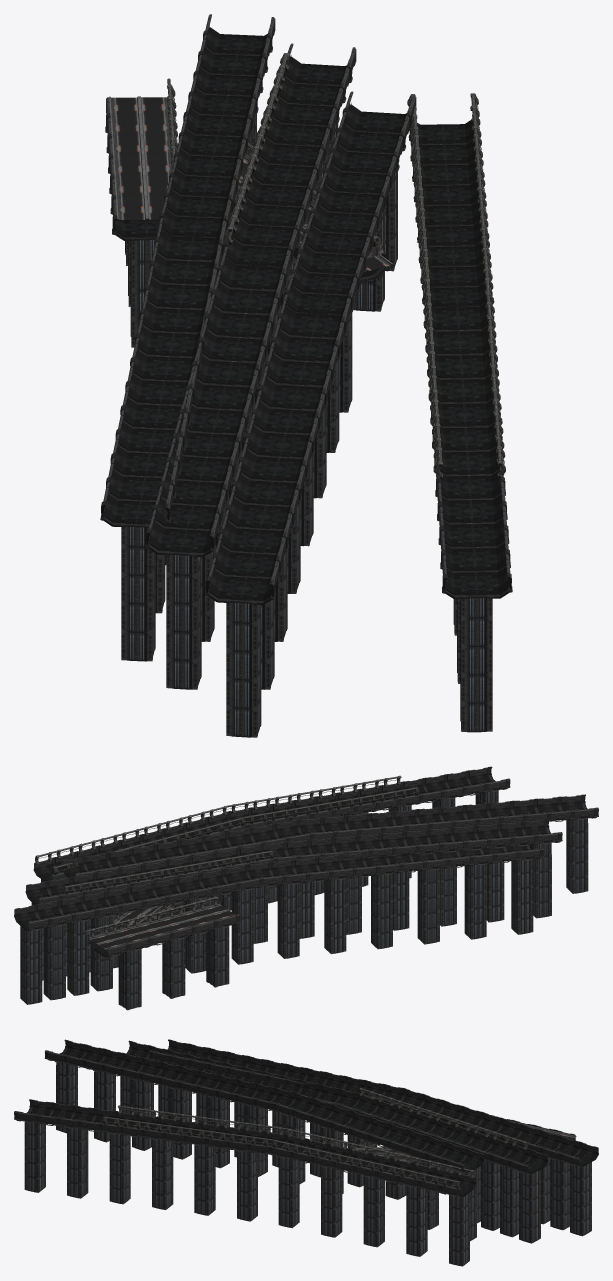
File: test_tm_bg_parts_170402_v3.fbx
3 views of the same model, one above another, from view 1: azimuth 30°, elevation 25°; view 2: azimuth 150°, elevation 25°; view 3: azimuth 270°, elevation 25° (orthographic). The views are drawn at different scales.
Visible parts, largest first — view 1: tm_bg_mesh_003, tm_bg_mesh_012, tm_bg_mesh_009, tm_bg_mesh_006, tm_bg_mesh_001, tm_bg_mesh_015, tm_bg_mesh_010, tm_bg_mesh_025, tm_bg_mesh_007, tm_bg_mesh_004, tm_bg_mesh_013, tm_bg_mesh_024 (+2 smaller); view 2: tm_bg_mesh_007, tm_bg_mesh_009, tm_bg_mesh_003, tm_bg_mesh_012, tm_bg_mesh_006, tm_bg_mesh_010, tm_bg_mesh_013, tm_bg_mesh_025, tm_bg_mesh_015, tm_bg_mesh_001, tm_bg_mesh_004, tm_bg_mesh_008 (+4 smaller); view 3: tm_bg_mesh_004, tm_bg_mesh_003, tm_bg_mesh_006, tm_bg_mesh_009, tm_bg_mesh_001, tm_bg_mesh_010, tm_bg_mesh_012, tm_bg_mesh_025, tm_bg_mesh_007, tm_bg_mesh_005, tm_bg_mesh_024, tm_bg_mesh_011 (+1 smaller).
Part boxes in pixels (box(x1,y1,x2,y2)): tm_bg_mesh_003: box(205, 91, 416, 604); tm_bg_mesh_012: box(145, 43, 356, 556); tm_bg_mesh_009: box(100, 14, 275, 528); tm_bg_mesh_006: box(408, 120, 512, 599); tm_bg_mesh_001: box(221, 171, 397, 737); tm_bg_mesh_015: box(105, 96, 176, 240); tm_bg_mesh_010: box(165, 123, 338, 689); tm_bg_mesh_025: box(407, 93, 505, 479); tm_bg_mesh_007: box(116, 113, 256, 661); tm_bg_mesh_004: box(441, 342, 498, 731); tm_bg_mesh_013: box(125, 240, 154, 347); tm_bg_mesh_024: box(224, 53, 288, 244); tm_bg_mesh_007: box(20, 850, 533, 1004); tm_bg_mesh_009: box(14, 835, 544, 931); tm_bg_mesh_003: box(62, 794, 598, 877); tm_bg_mesh_012: box(25, 819, 562, 904); tm_bg_mesh_006: box(33, 766, 510, 881); tm_bg_mesh_010: box(31, 842, 551, 979); tm_bg_mesh_013: box(118, 925, 229, 1010); tm_bg_mesh_025: box(35, 775, 418, 875); tm_bg_mesh_015: box(89, 901, 240, 957); tm_bg_mesh_001: box(338, 813, 588, 893); tm_bg_mesh_004: box(41, 780, 498, 913); tm_bg_mesh_008: box(22, 869, 530, 1004); tm_bg_mesh_004: box(24, 1121, 469, 1266); tm_bg_mesh_003: box(44, 1039, 484, 1173); tm_bg_mesh_006: box(14, 1099, 476, 1197); tm_bg_mesh_009: box(149, 1039, 598, 1167); tm_bg_mesh_001: box(56, 1061, 476, 1240); tm_bg_mesh_010: box(120, 1076, 540, 1243); tm_bg_mesh_012: box(126, 1040, 548, 1174); tm_bg_mesh_025: box(103, 1105, 475, 1189); tm_bg_mesh_007: box(330, 1085, 591, 1236); tm_bg_mesh_005: box(27, 1131, 468, 1265); tm_bg_mesh_024: box(359, 1087, 527, 1150); tm_bg_mesh_011: box(123, 1088, 538, 1242).
Bounding box in the file's own units: 31913 × 10973 × 48494.
